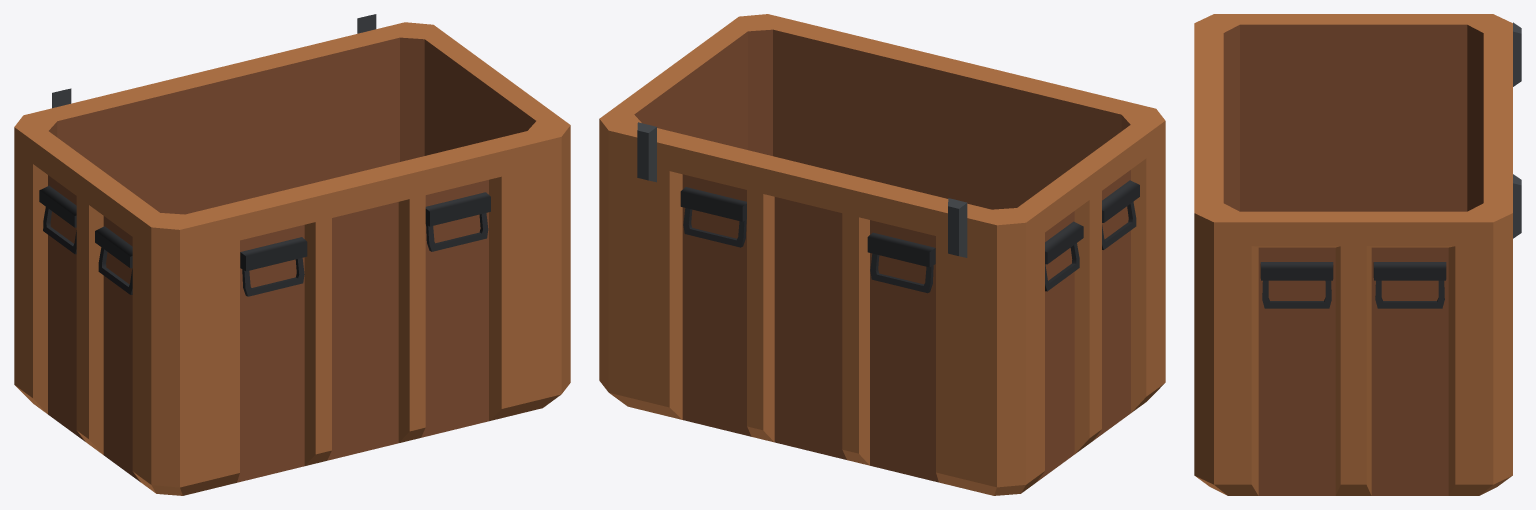
Rendered from SM_Prop_Crate_Plastic_04.fbx.
The picture shows the model from 3 angles, left to right: view 1: azimuth 30°, elevation 25°; view 2: azimuth 150°, elevation 25°; view 3: azimuth 270°, elevation 25°; orthographic projection.
Visible parts, largest first — view 1: SM_Prop_Crate_Plastic_04; view 2: SM_Prop_Crate_Plastic_04; view 3: SM_Prop_Crate_Plastic_04.
Boxes of the visible parts, left/top/right/bottom form: SM_Prop_Crate_Plastic_04: left=14, top=14, right=570, bottom=495; SM_Prop_Crate_Plastic_04: left=599, top=14, right=1165, bottom=495; SM_Prop_Crate_Plastic_04: left=1194, top=14, right=1521, bottom=495.
Bounding box in the file's own units: 120 × 79.28 × 79.8.
